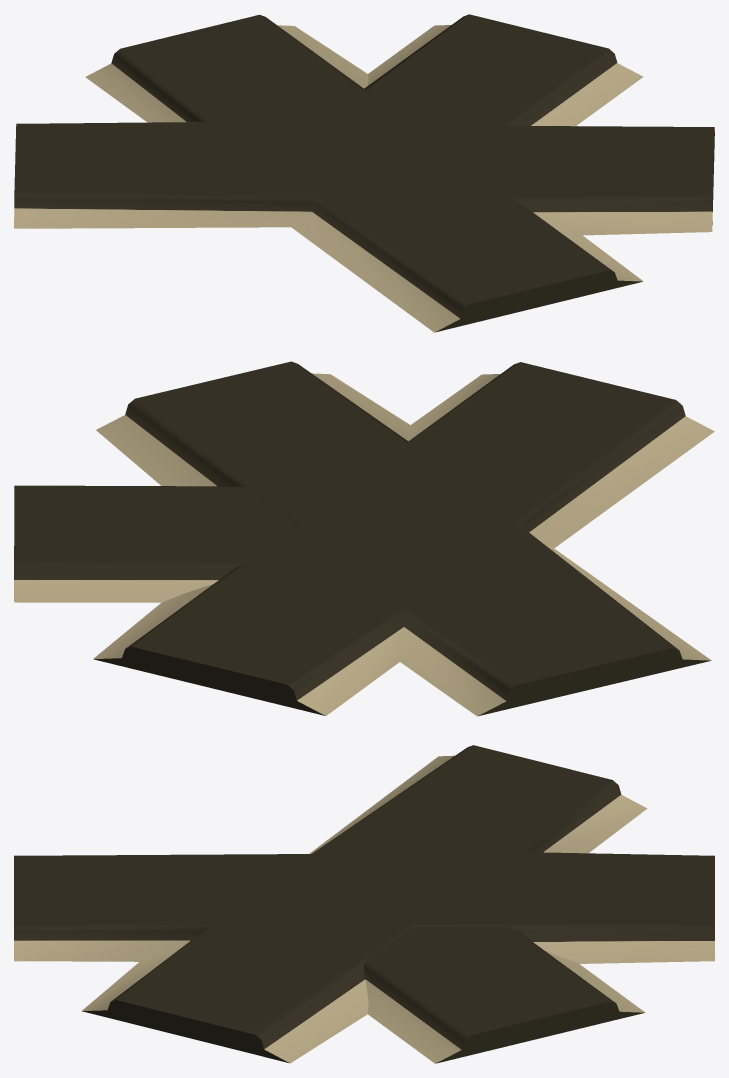
Rendered from Road_Star.fbx.
The picture shows the model from 3 angles, top to bottom: view 1: azimuth 30°, elevation 25°; view 2: azimuth 150°, elevation 25°; view 3: azimuth 270°, elevation 25°; orthographic projection. The views are drawn at different scales.
Visible parts, largest first — view 1: Road_Star; view 2: Road_Star; view 3: Road_Star.
Part boxes in pixels (left/top/right/bottom): Road_Star: left=14, top=14, right=714, bottom=332; Road_Star: left=14, top=361, right=714, bottom=716; Road_Star: left=14, top=745, right=714, bottom=1063.
Bounding box in the file's own units: 0.8992 × 0.0271 × 0.866.
